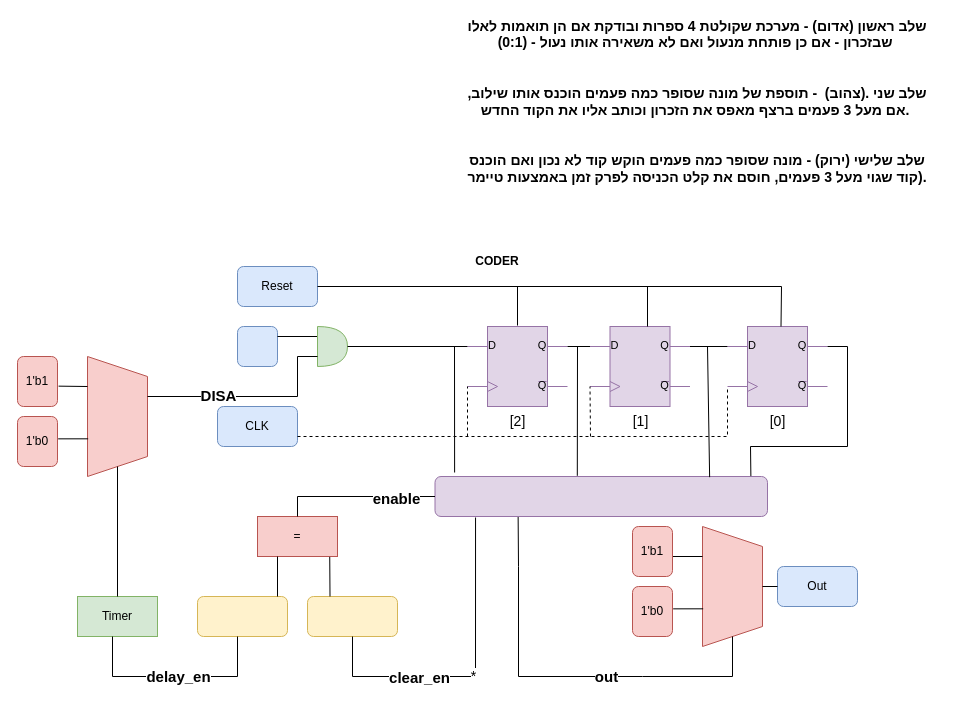
This 955x703 diagram has some shape labels left out. The shapes that lost their labels are listed below. From the top down, each one's centre as x and y in pixels, then its label:
pixel 257 346: In
pixel 117 416: delay select
pixel 601 496: mem [3:0]
pixel 732 586: lock
pixel 242 616: wrong_c
pixel 352 616: clear_c
